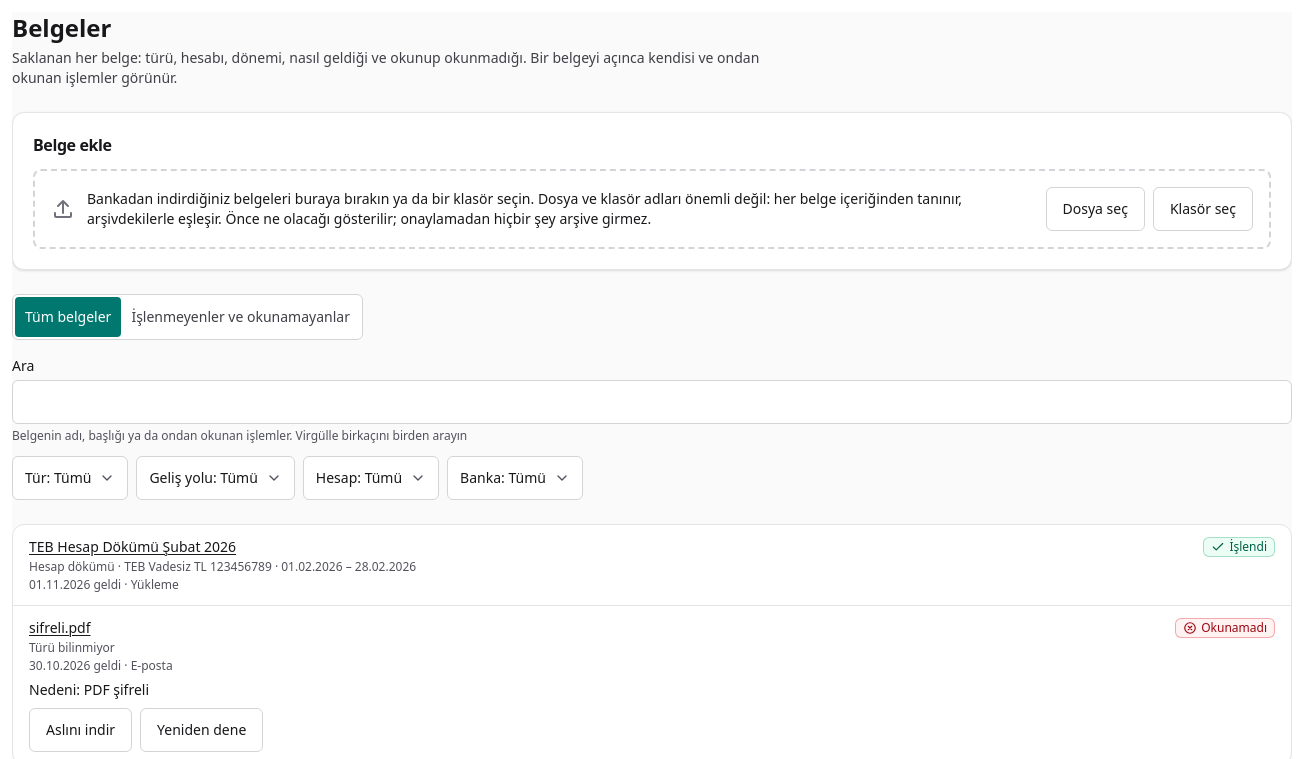
Scenario: DocumentsPage: the archive › sends a search once the typing pauses, keeping one entry in the address
In the search field labelled "Ara": x=652, y=402 [12,380,1292,424], type "maaş"
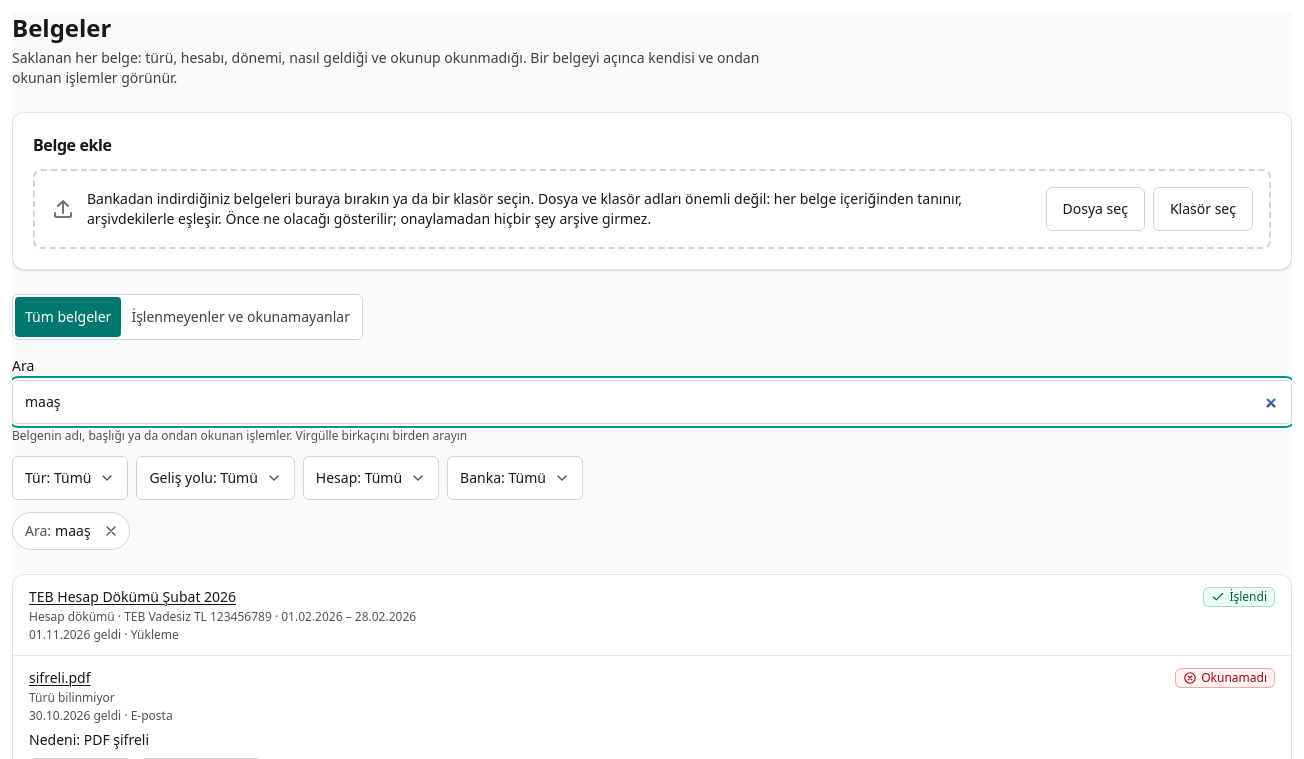
Result: the text "maaş" is shown at [55,521,91,541]
